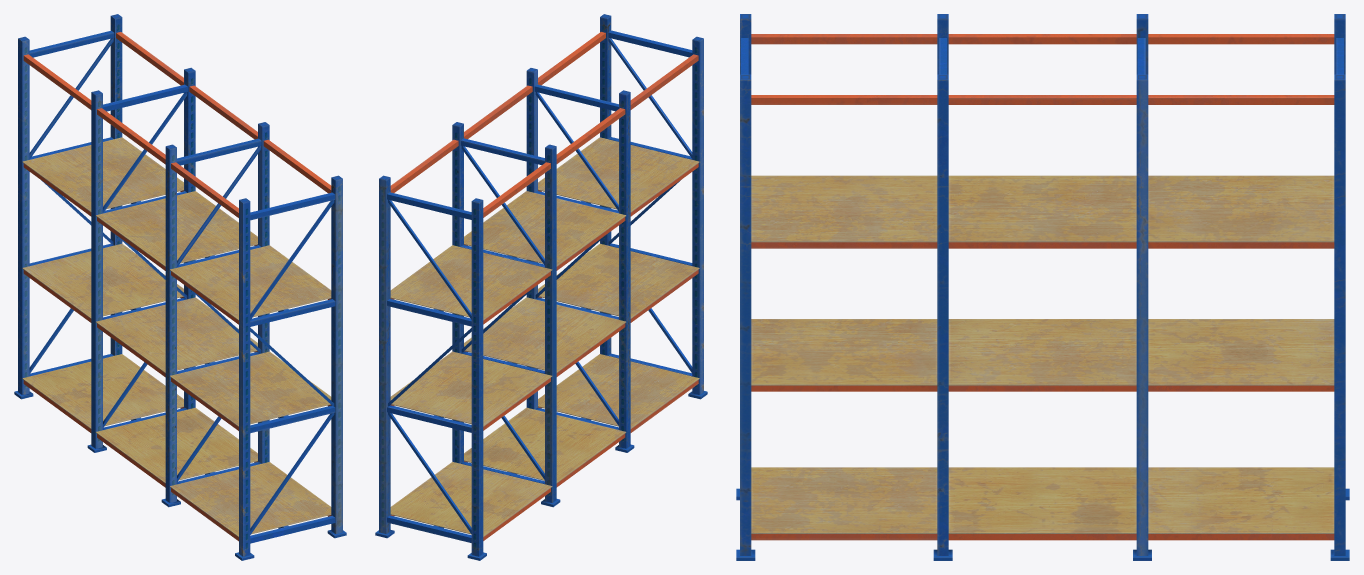
The model's file is industrial_storage_rack.glb.
3 views of the same model, side by side, from view 1: azimuth 30°, elevation 25°; view 2: azimuth 150°, elevation 25°; view 3: azimuth 270°, elevation 25° (orthographic). The views are drawn at different scales.
Visible parts, largest first — view 1: Storage_Rack_Solid Glass_0; view 2: Storage_Rack_Solid Glass_0; view 3: Storage_Rack_Solid Glass_0.
Part boxes in pixels (<box>): Storage_Rack_Solid Glass_0: <box>14,14,346,560</box>; Storage_Rack_Solid Glass_0: <box>375,14,707,560</box>; Storage_Rack_Solid Glass_0: <box>736,14,1349,560</box>.
Bounding box in the file's own units: 3.18 × 10.33 × 11.97.
Materials: 1 (1 with a texture image).
